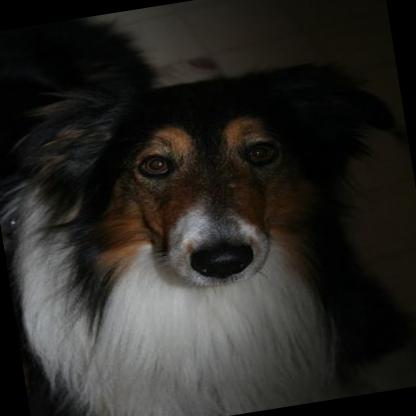collie: (0, 19, 416, 416)
